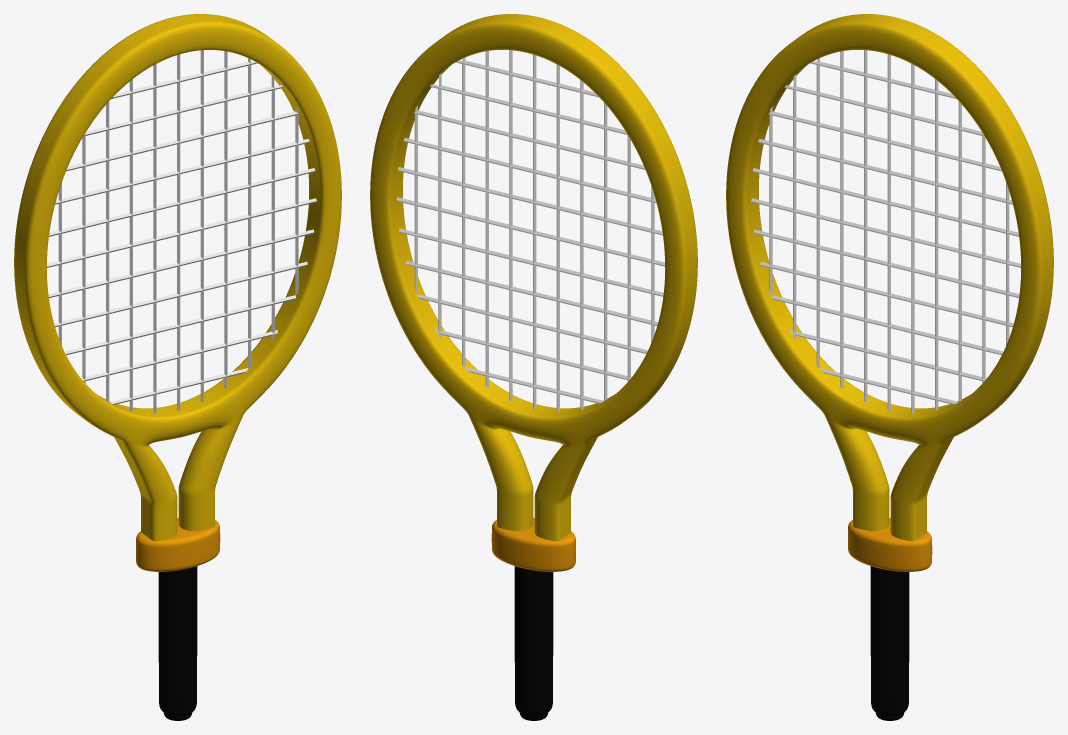
The model's file is tennis1.fbx.
3 views of the same model, side by side, from view 1: azimuth 30°, elevation 25°; view 2: azimuth 150°, elevation 25°; view 3: azimuth 330°, elevation 25° (orthographic).
Visible parts, largest first — view 1: tennis; view 2: tennis; view 3: tennis.
Boxes of the visible parts, x1,y1,x2,y2 form: tennis: (14,14,341,720); tennis: (370,14,697,720); tennis: (726,14,1053,720).
Size of the model in its own units: 182 by 383 by 26.85.
